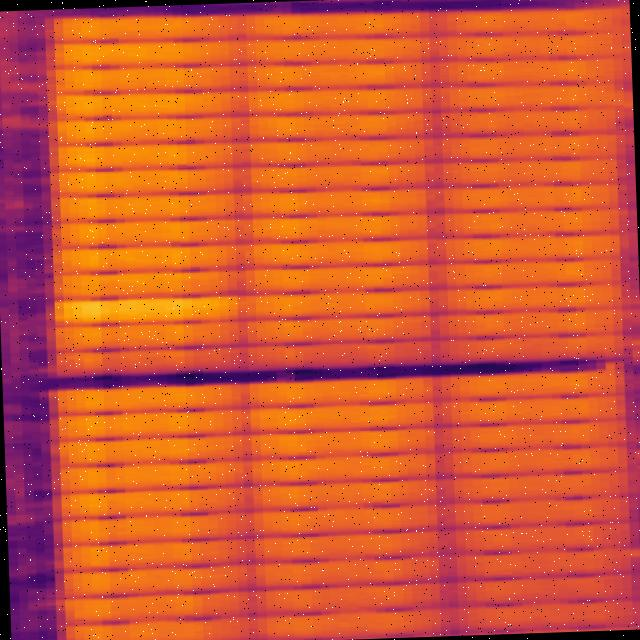Hotspot: (48, 294, 256, 324)
